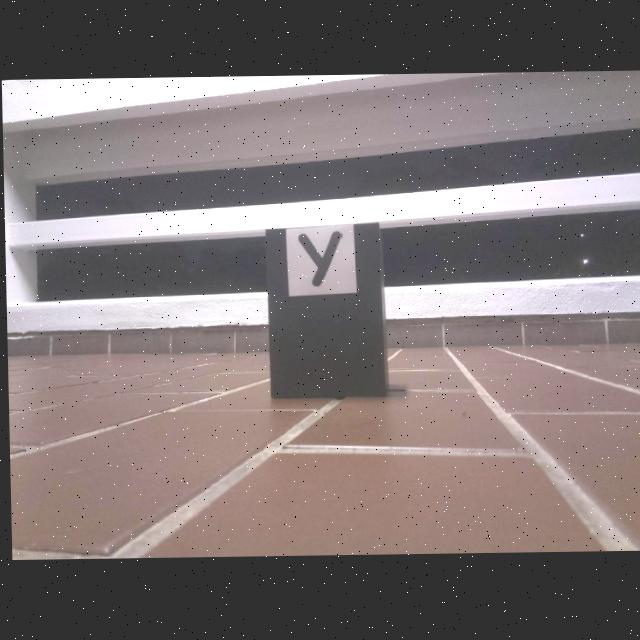Y: (298, 233, 340, 287)
